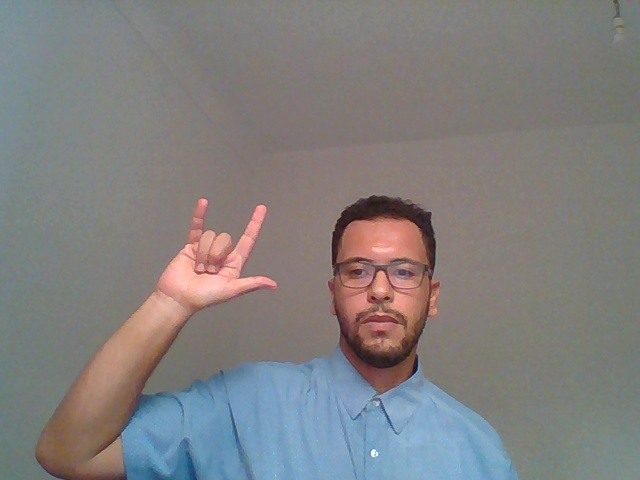iloveyou: (107, 158, 301, 403)
